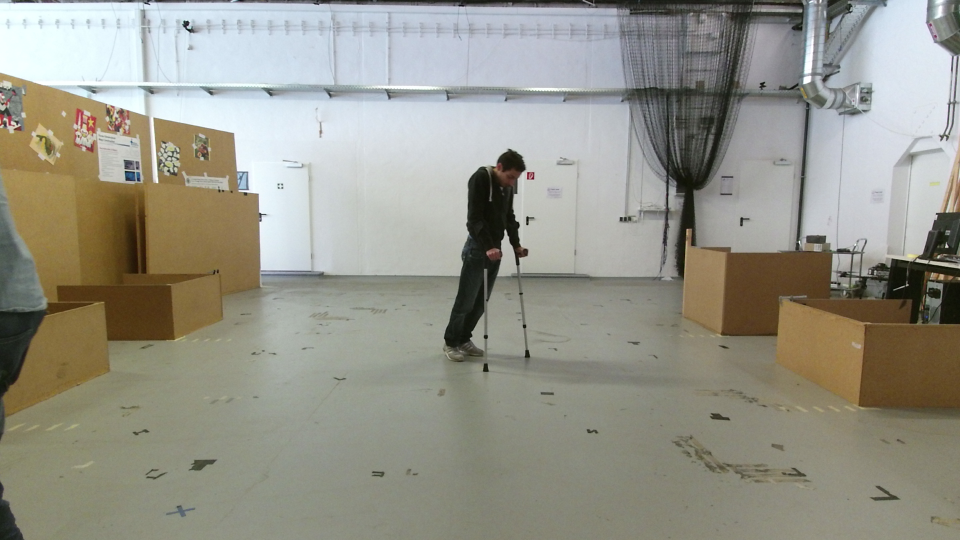crutches: (438, 144, 537, 372)
